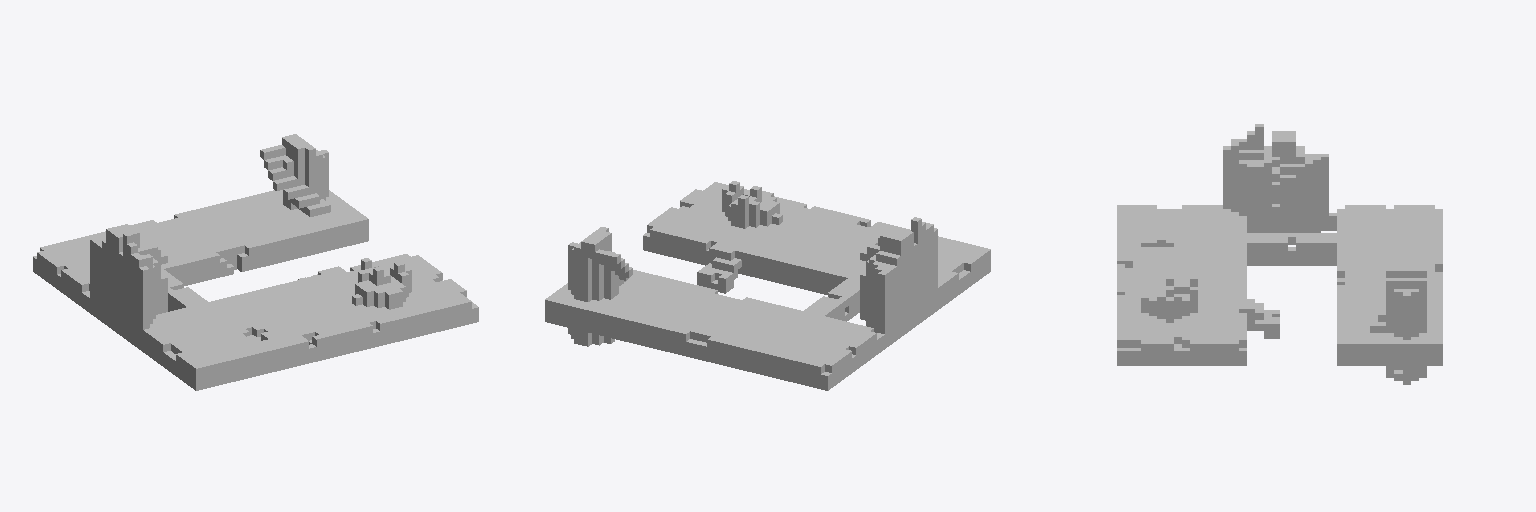
Rendered from lostburg_middle.obj.
3 renders of one model, left to right at view 1: azimuth 30°, elevation 25°; view 2: azimuth 150°, elevation 25°; view 3: azimuth 270°, elevation 25°, orthographic.
Parts seen in each view (by area): view 1: Untitled; view 2: Untitled; view 3: Untitled.
Part boxes in pixels (x1,y1,x2,y2): Untitled: (33,134,478,390); Untitled: (545,181,990,390); Untitled: (1117,124,1442,384).
Bounding box in the file's own units: 4 × 1.7 × 4.